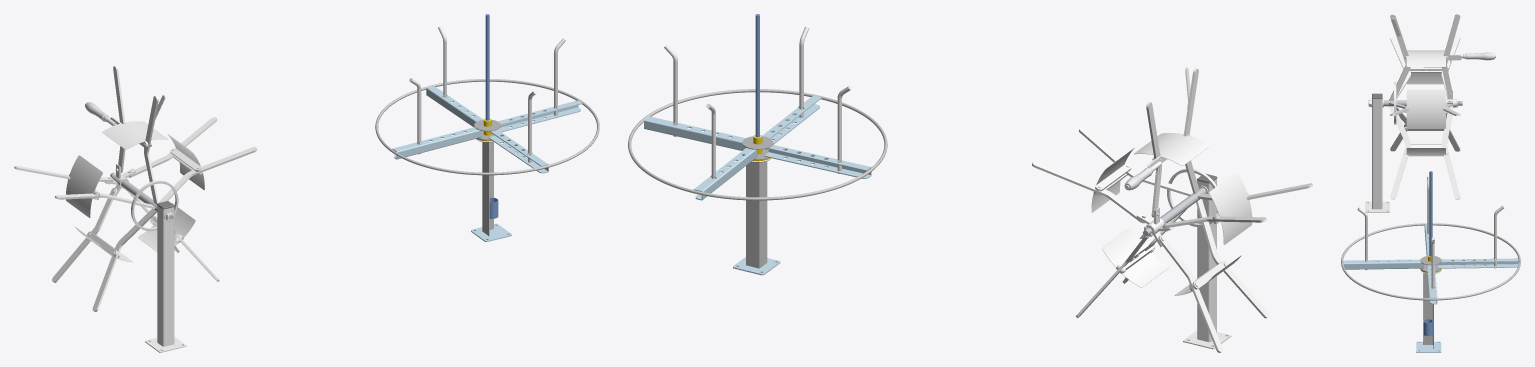
3 views of the same model, side by side, from view 1: azimuth 30°, elevation 25°; view 2: azimuth 150°, elevation 25°; view 3: azimuth 270°, elevation 25° (orthographic). The views are drawn at different scales.
Parts seen in each view (by area): view 1: Stand - U Chanell (×4), ÃÂÃÂÃÂÃÂ¤ÃÂÃÂ°ÃÂÃÂ¥-16S (×4), ÃÂÃÂÃÂÃÂ§ÃÂÃÂ¼ÃÂÃÂ-16S, ÃÂÃÂ¹ÃÂÃÂÃÂÃÂ¶ÃÂÃÂ¨ÃÂÃÂµÃÂÃÂ²ÃÂÃÂ°ÃÂÃÂ¥-16S (×4), Stand - External Ring 0.313, ÃÂÃÂ»ÃÂÃÂ®ÃÂÃÂ¶ÃÂÃÂ¯ÃÂÃÂµÃÂÃÂ²ÃÂÃÂ°ÃÂÃÂ¥-16S (×3), Stand - Base Angle 1.5x1.5x0.125, Stand - Center Galvanized Bar 0.438, ÃÂÃÂ¶ÃÂÃÂ¨ÃÂÃÂÃÂÃÂ»ÃÂÃÂ¼ÃÂÃÂÃÂÃÂÃÂÃÂ¿ÃÂÃÂÃÂÃÂ¦-16S; view 2: ÃÂÃÂÃÂÃÂ¤ÃÂÃÂ°ÃÂÃÂ¥-16S (×4), Stand - U Chanell (×4), ÃÂÃÂ»ÃÂÃÂ®ÃÂÃÂ¶ÃÂÃÂ¯ÃÂÃÂµÃÂÃÂ²ÃÂÃÂ°ÃÂÃÂ¥-16S (×4), ÃÂÃÂ¹ÃÂÃÂÃÂÃÂ¶ÃÂÃÂ¨ÃÂÃÂµÃÂÃÂ²ÃÂÃÂ°ÃÂÃÂ¥-16S (×3), ÃÂÃÂÃÂÃÂ§ÃÂÃÂ¼ÃÂÃÂ-16S, Stand - Base Angle 1.5x1.5x0.125, Stand - External Ring 0.313, Stand - Center Galvanized Bar 0.438; view 3: ÃÂÃÂÃÂÃÂ¤ÃÂÃÂ°ÃÂÃÂ¥-16S (×5), Stand - U Chanell (×3), ÃÂÃÂ¹ÃÂÃÂÃÂÃÂ¶ÃÂÃÂ¨ÃÂÃÂµÃÂÃÂ²ÃÂÃÂ°ÃÂÃÂ¥-16S (×4), ÃÂÃÂÃÂÃÂ§ÃÂÃÂ¼ÃÂÃÂ-16S, ÃÂÃÂ»ÃÂÃÂ®ÃÂÃÂ¶ÃÂÃÂ¯ÃÂÃÂµÃÂÃÂ²ÃÂÃÂ°ÃÂÃÂ¥-16S (×3), Stand - External Ring 0.313, Stand - Bent Galvanized Bar 0.438 (×4), Stand - Base Angle 1.5x1.5x0.125, Stand - Center Galvanized Bar 0.438, Stand - Base Plate 3.5x3.5x0.125, ÃÂÃÂÃÂÃÂÃÂÃÂ±ÃÂÃÂº-16S, Stand - Tube Holder 1.375x0.0625.
Part boxes in pixels (x1,y1,x2,y2): Stand - U Chanell (×4): [392, 85, 582, 173]; ÃÂÃÂÃÂÃÂ¤ÃÂÃÂ°ÃÂÃÂ¥-16S (×4): [66, 121, 204, 251]; ÃÂÃÂÃÂÃÂ§ÃÂÃÂ¼ÃÂÃÂ-16S: [145, 205, 186, 352]; ÃÂÃÂ¹ÃÂÃÂÃÂÃÂ¶ÃÂÃÂ¨ÃÂÃÂµÃÂÃÂ²ÃÂÃÂ°ÃÂÃÂ¥-16S (×4): [55, 95, 257, 311]; Stand - External Ring 0.313: [375, 79, 599, 175]; ÃÂÃÂ»ÃÂÃÂ®ÃÂÃÂ¶ÃÂÃÂ¯ÃÂÃÂµÃÂÃÂ²ÃÂÃÂ°ÃÂÃÂ¥-16S (×3): [52, 66, 217, 282]; Stand - Base Angle 1.5x1.5x0.125: [482, 142, 493, 235]; Stand - Center Galvanized Bar 0.438: [485, 14, 489, 120]; ÃÂÃÂ¶ÃÂÃÂ¨ÃÂÃÂÃÂÃÂ»ÃÂÃÂ¼ÃÂÃÂÃÂÃÂÃÂÃÂ¿ÃÂÃÂÃÂÃÂ¦-16S: [131, 180, 178, 231]; ÃÂÃÂÃÂÃÂ¤ÃÂÃÂ°ÃÂÃÂ¥-16S (×4): [1091, 132, 1252, 287]; Stand - U Chanell (×4): [644, 95, 871, 200]; ÃÂÃÂ»ÃÂÃÂ®ÃÂÃÂ¶ÃÂÃÂ¯ÃÂÃÂµÃÂÃÂ²ÃÂÃÂ°ÃÂÃÂ¥-16S (×4): [1032, 102, 1266, 352]; ÃÂÃÂ¹ÃÂÃÂÃÂÃÂ¶ÃÂÃÂ¨ÃÂÃÂµÃÂÃÂ²ÃÂÃÂ°ÃÂÃÂ¥-16S (×3): [1079, 68, 1269, 318]; ÃÂÃÂÃÂÃÂ§ÃÂÃÂ¼ÃÂÃÂ-16S: [1183, 179, 1231, 349]; Stand - Base Angle 1.5x1.5x0.125: [746, 161, 767, 268]; Stand - External Ring 0.313: [628, 89, 887, 200]; Stand - Center Galvanized Bar 0.438: [755, 14, 759, 137]; ÃÂÃÂÃÂÃÂ¤ÃÂÃÂ°ÃÂÃÂ¥-16S (×5): [1406, 50, 1445, 156]; Stand - U Chanell (×3): [1343, 258, 1518, 304]; ÃÂÃÂ¹ÃÂÃÂÃÂÃÂ¶ÃÂÃÂ¨ÃÂÃÂµÃÂÃÂ²ÃÂÃÂ°ÃÂÃÂ¥-16S (×4): [1389, 14, 1410, 199]; ÃÂÃÂÃÂÃÂ§ÃÂÃÂ¼ÃÂÃÂ-16S: [1365, 99, 1389, 212]; ÃÂÃÂ»ÃÂÃÂ®ÃÂÃÂ¶ÃÂÃÂ¯ÃÂÃÂµÃÂÃÂ²ÃÂÃÂ°ÃÂÃÂ¥-16S (×3): [1441, 14, 1460, 199]; Stand - External Ring 0.313: [1341, 223, 1520, 300]; Stand - Bent Galvanized Bar 0.438 (×4): [1357, 176, 1504, 288]; Stand - Base Angle 1.5x1.5x0.125: [1423, 273, 1433, 348]; Stand - Center Galvanized Bar 0.438: [1429, 171, 1432, 256]; Stand - Base Plate 3.5x3.5x0.125: [1416, 341, 1441, 352]; ÃÂÃÂÃÂÃÂÃÂÃÂ±ÃÂÃÂº-16S: [1463, 52, 1494, 60]; Stand - Tube Holder 1.375x0.0625: [1423, 319, 1433, 336].
Size of the model in its own units: 1.82 by 0.7582 by 0.6395.
